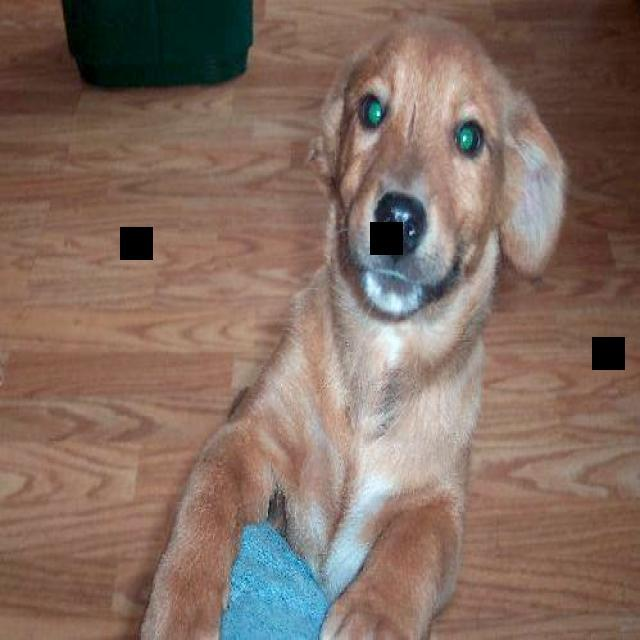puppy-dog: (137, 10, 572, 640)
